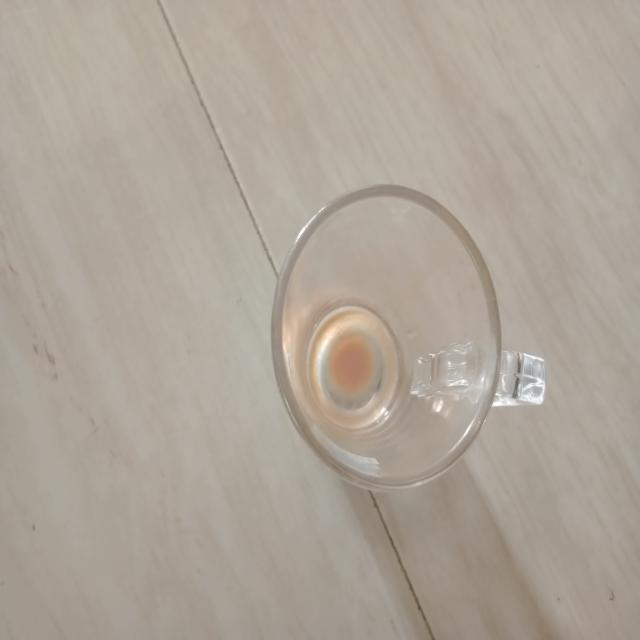glass-VX4N: (260, 182, 547, 496)
